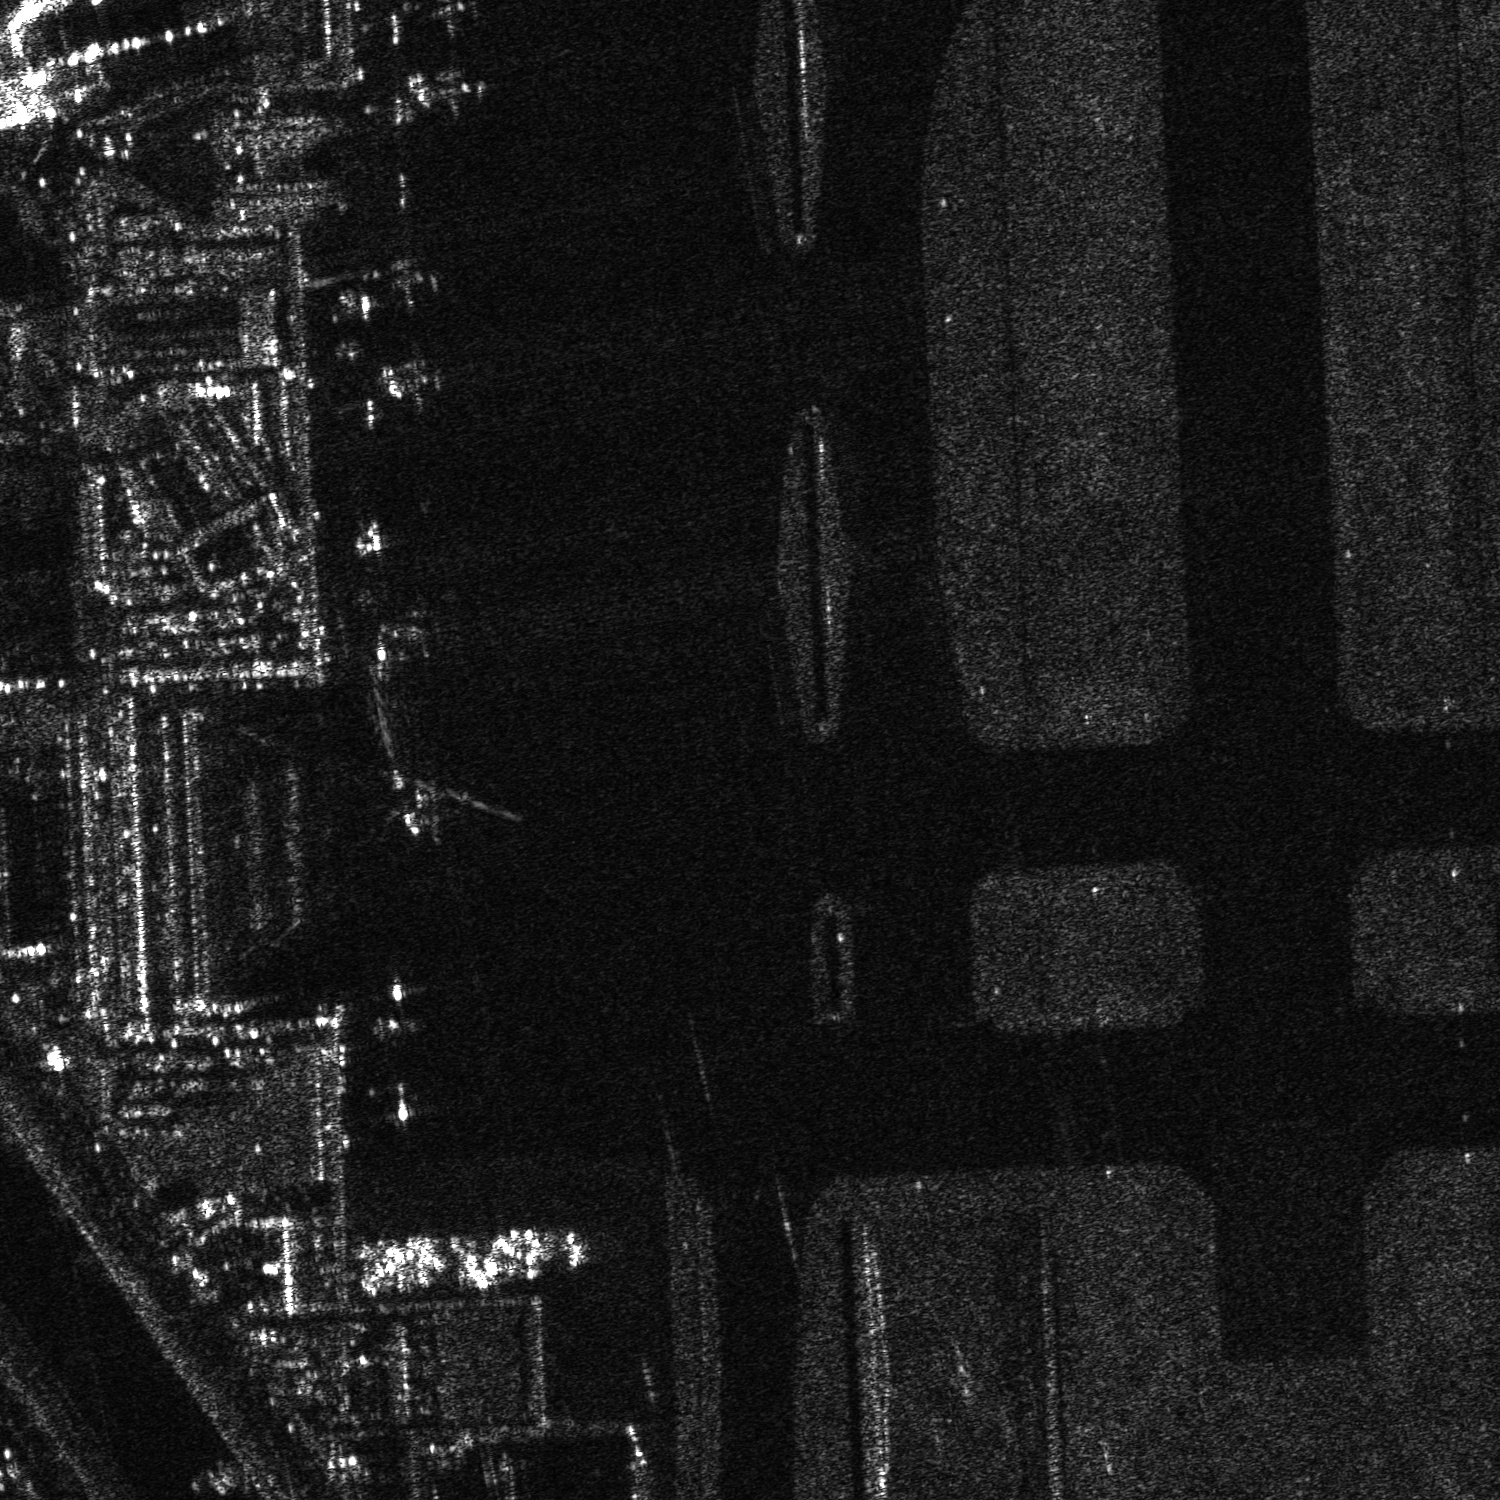A220: (402, 58, 499, 126), (408, 1, 488, 44)
